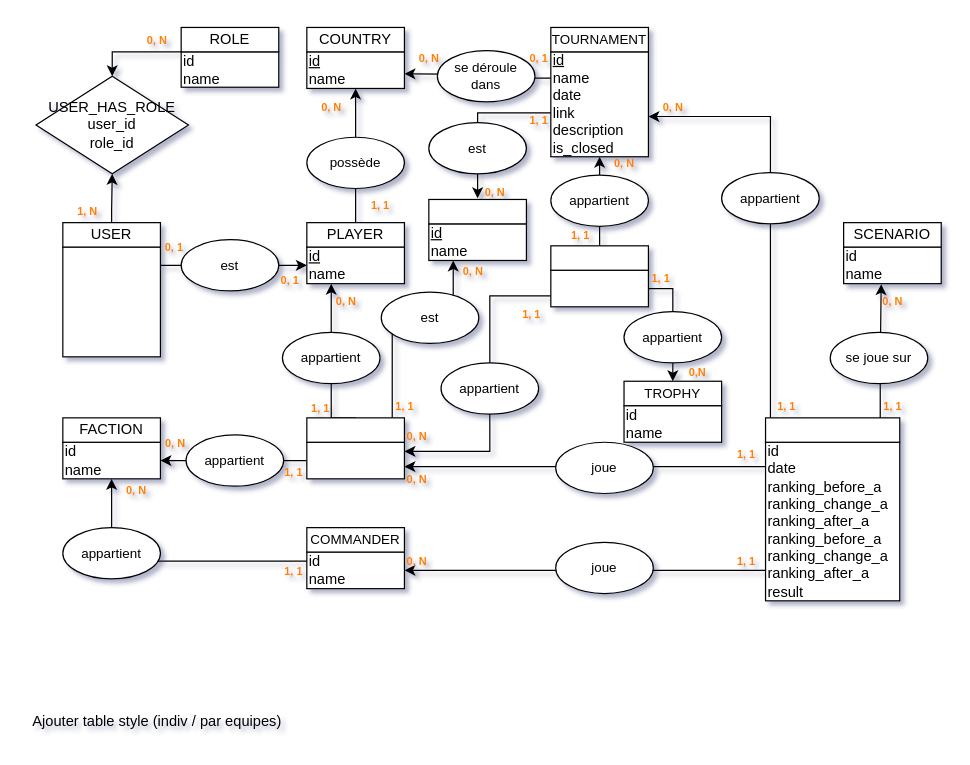
The diagram is 970 pixels wide and 765 high, and some of its shapes have lost their labels. The shapes that lost their labels are listed below. From the top down, each one's box as (x1, y1, x2, y2) in pixels, then its label:
(428, 198, 526, 224): TYPE
(550, 245, 648, 270): REWARD
(62, 246, 160, 357): id nickname email password firstname lastname
(550, 269, 648, 307): id description
(306, 417, 404, 442): RANKING
(764, 417, 900, 442): GAME
(306, 441, 404, 479): id value
